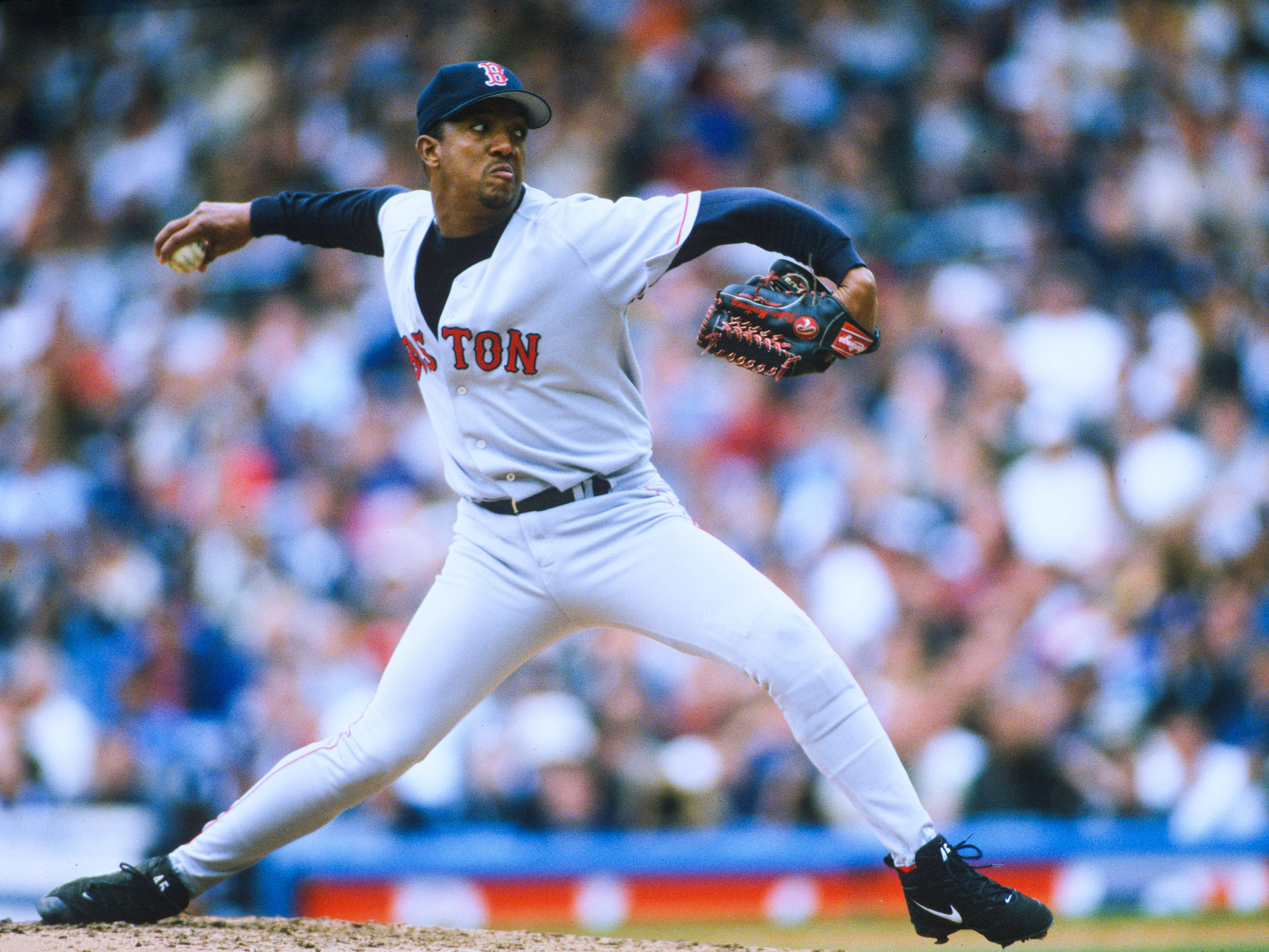baseball: (174, 243, 205, 274)
